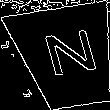N_S: (34, 28, 100, 86)
